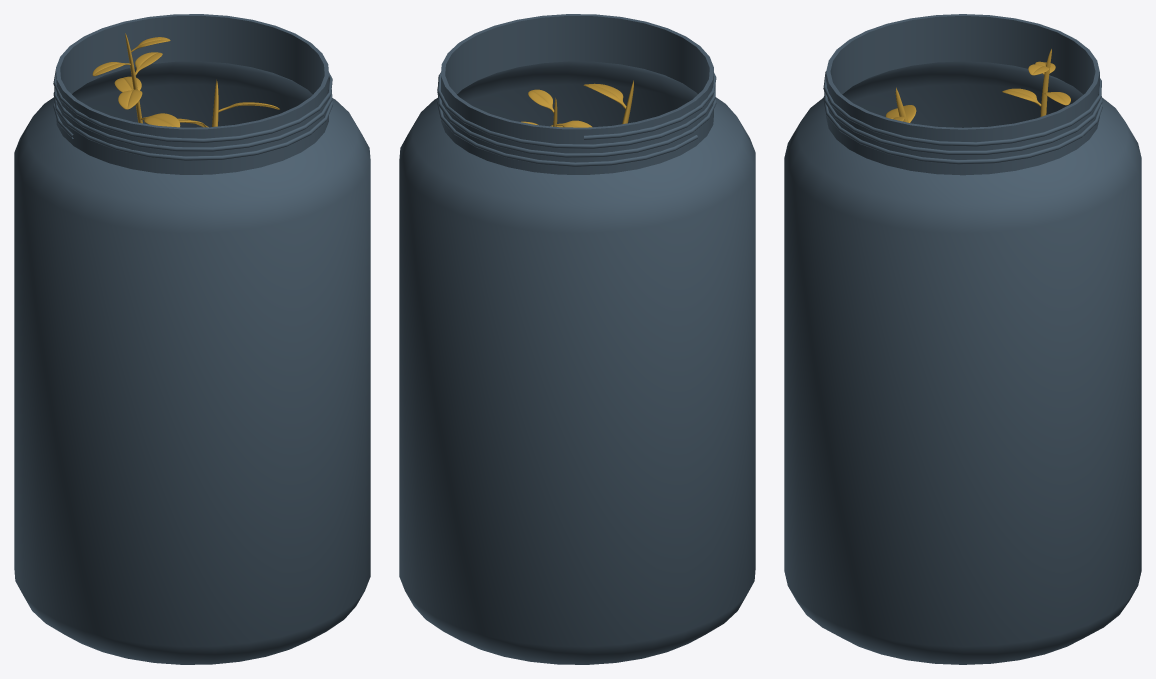
Rendered from Jar_YellowHerbs.fbx.
3 renders of one model, left to right at view 1: azimuth 30°, elevation 25°; view 2: azimuth 150°, elevation 25°; view 3: azimuth 270°, elevation 25°, orthographic.
Parts seen in each view (by area): view 1: jar_with_herbsYellow; view 2: jar_with_herbsYellow; view 3: jar_with_herbsYellow.
Boxes of the visible parts, <box> form: jar_with_herbsYellow: <box>14,14,370,664</box>; jar_with_herbsYellow: <box>399,14,755,664</box>; jar_with_herbsYellow: <box>784,14,1141,664</box>.
Size of the model in its own units: 37.64 by 63.15 by 37.64.
